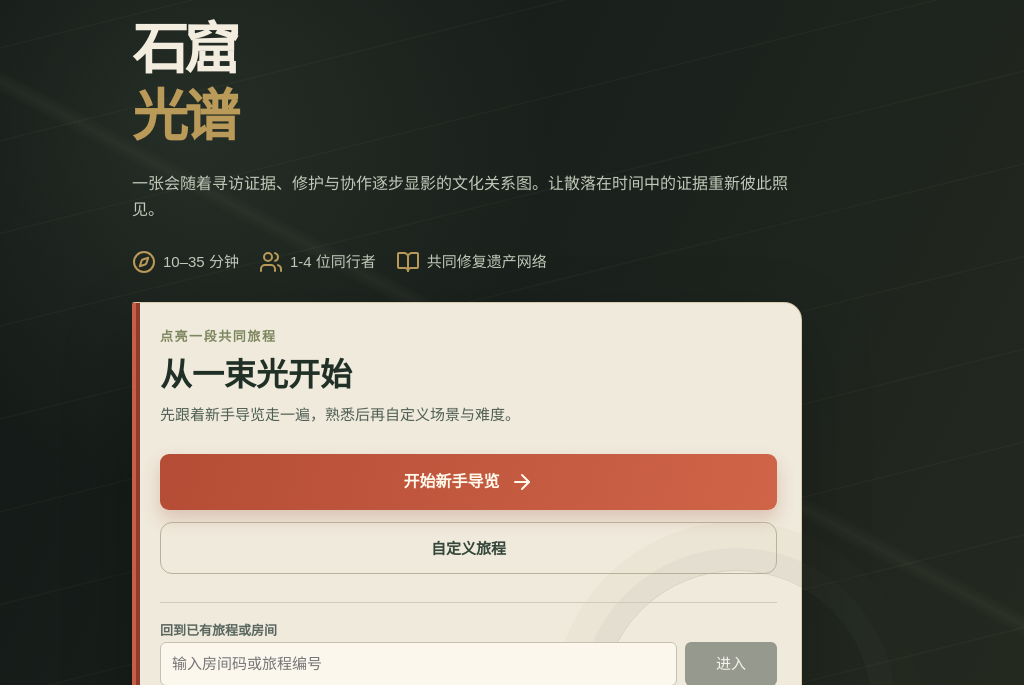
Test: LandingPage › loads scenario metadata from the API
This screenshot has width=1024, height=685.
What coordinates should you click on to do the following:
click the button "自定义旅程"
I would click on:
 (468, 548)
Its box is [160,522,777,574].
(page scrolled)
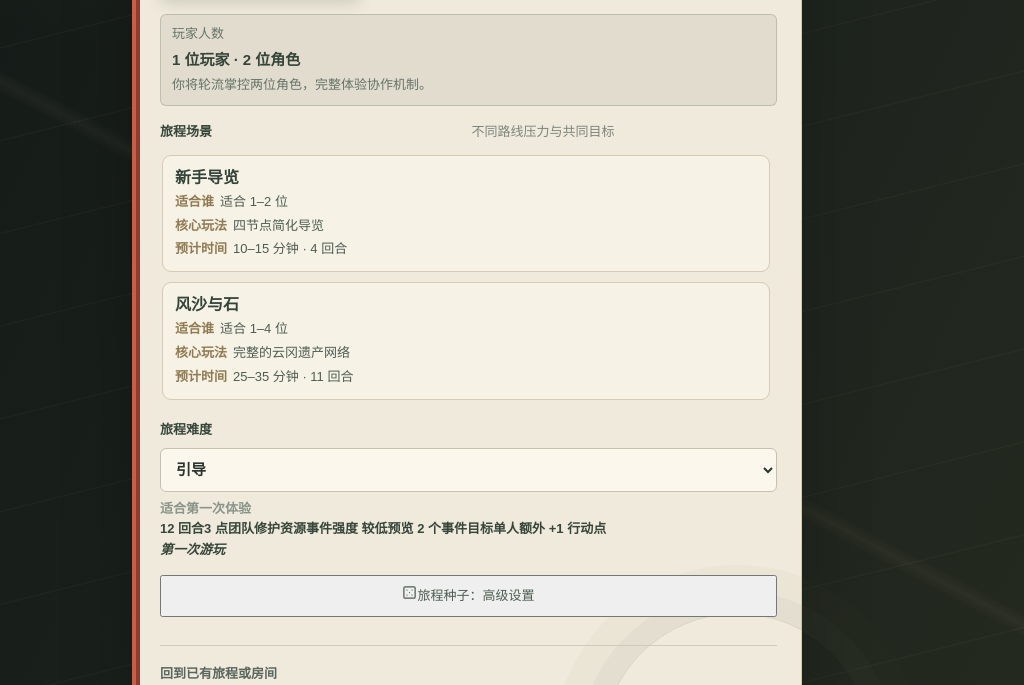
Result: the text "风沙与石" is shown at [175,296,239,313]
